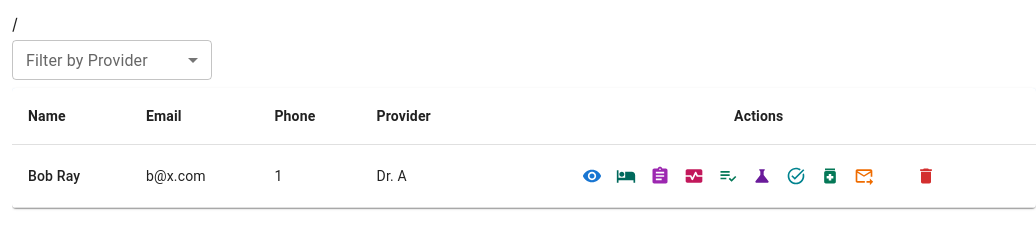
the Referral Manager icon selects the patient, then opens the Referral Manager
The width and height of the screenshot is (1036, 227).
What coordinates should you click on to do the following:
click the button named "Referral Manager for Bob Ray"
I would click on:
 (864, 176)
Its box is [849,161,879,191].
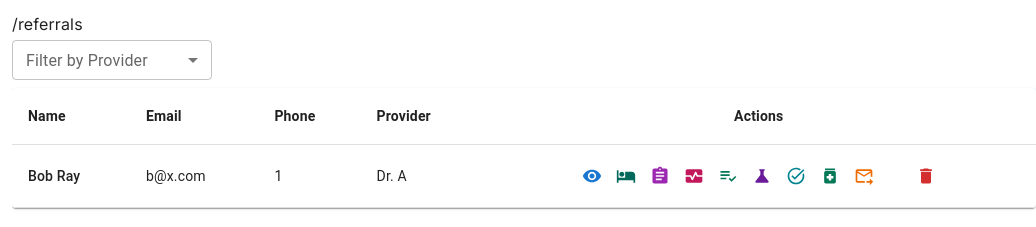
Expected: the text with test id "where" reads "/referrals", [12,14,83,34]
